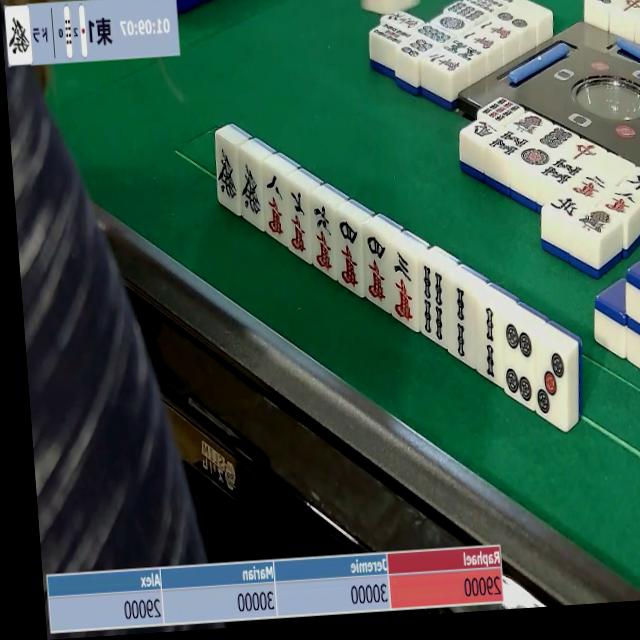fa: (213, 144, 239, 214), (238, 157, 264, 225), (4, 7, 30, 65)
m3: (384, 247, 421, 330)
m4: (330, 215, 365, 295), (358, 229, 393, 307)
m6: (306, 201, 338, 277)
m7: (282, 186, 312, 262)
m8: (260, 167, 288, 242)
s2: (472, 302, 506, 387), (443, 283, 476, 367)
s4: (414, 262, 449, 348)
t1: (514, 142, 557, 172)
t3: (532, 342, 571, 424)
t4: (497, 316, 539, 409)
t8: (416, 23, 453, 48)
t9: (478, 96, 526, 126)
